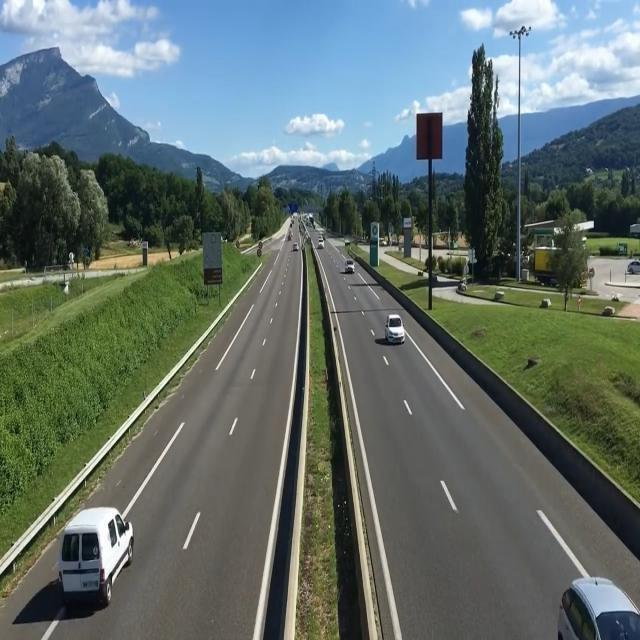Car: (57, 502, 139, 614), (559, 558, 638, 640), (368, 300, 428, 360)
